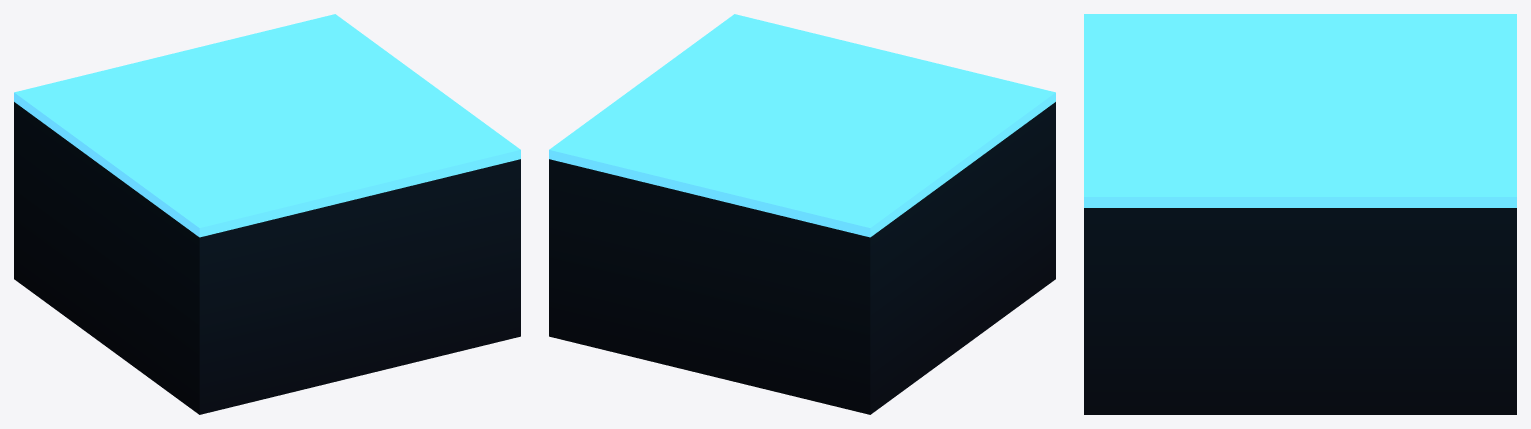
The model's file is Block_Base_Center.glb.
3 renders of one model, left to right at view 1: azimuth 30°, elevation 25°; view 2: azimuth 150°, elevation 25°; view 3: azimuth 270°, elevation 25°, orthographic. The views are drawn at different scales.
Parts seen in each view (by area): view 1: Block_Base_Center; view 2: Block_Base_Center; view 3: Block_Base_Center.
Boxes of the visible parts, x1=… form: Block_Base_Center: x1=14, y1=14, x2=520, y2=414; Block_Base_Center: x1=549, y1=14, x2=1055, y2=414; Block_Base_Center: x1=1084, y1=14, x2=1516, y2=414.
Bounding box in the file's own units: 0.9 × 0.5 × 0.9.
